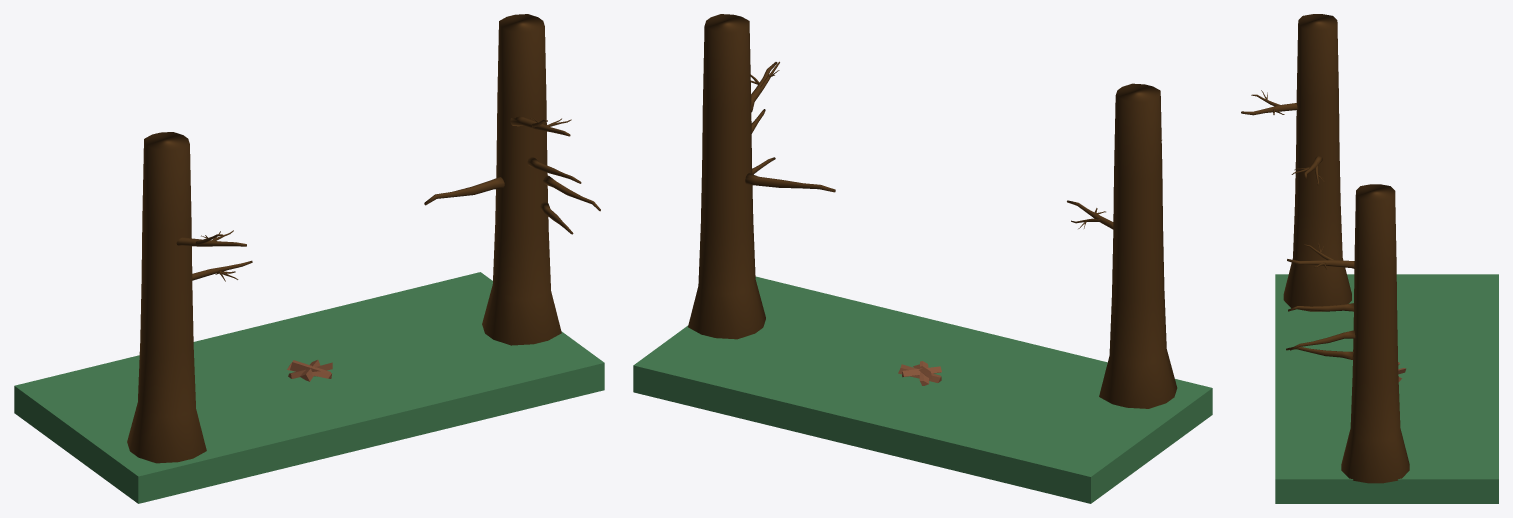
The model's file is campfire.glb.
3 views of the same model, side by side, from view 1: azimuth 30°, elevation 25°; view 2: azimuth 150°, elevation 25°; view 3: azimuth 270°, elevation 25° (orthographic). The views are drawn at different scales.
Parts seen in each view (by area): view 1: Cube.012; view 2: Cube.012; view 3: Cube.012.
Boxes of the visible parts, x1,y1,x2,y2 form: Cube.012: (14, 14, 604, 503); Cube.012: (633, 14, 1212, 503); Cube.012: (1241, 14, 1498, 503).
Bounding box in the file's own units: 4.4 × 2.96 × 2.3.
